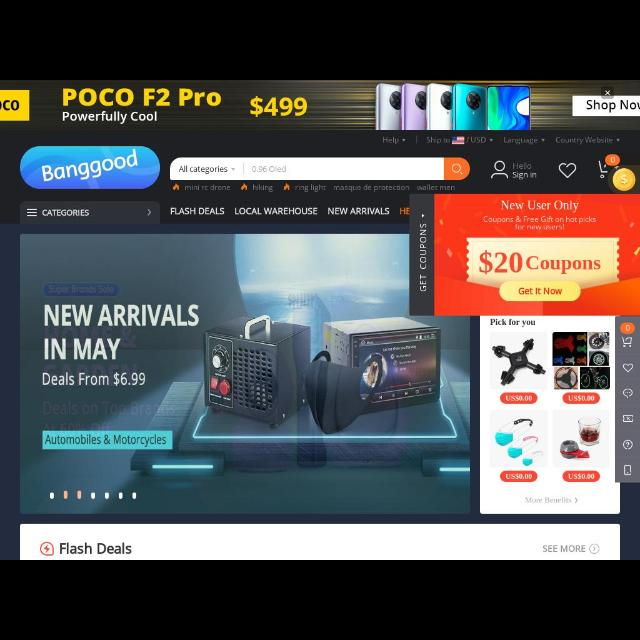button: (446, 158, 468, 180)
icon: (489, 160, 508, 182), (560, 162, 576, 178), (40, 542, 56, 558), (622, 337, 634, 348), (452, 163, 463, 174), (26, 208, 38, 218), (622, 362, 634, 372), (624, 414, 634, 424), (589, 544, 599, 554), (624, 464, 632, 476), (624, 388, 632, 399), (624, 440, 632, 450), (173, 183, 181, 191), (146, 208, 152, 218), (284, 183, 290, 193), (231, 166, 237, 174), (242, 183, 248, 190), (400, 137, 406, 143), (541, 136, 545, 144), (490, 138, 494, 142), (617, 138, 621, 142)
iframe: (1, 81, 639, 131), (410, 194, 640, 316)
image: (21, 233, 470, 514), (481, 318, 619, 514), (598, 158, 638, 194), (452, 136, 464, 144)
input: (242, 157, 470, 180)
multitab: (160, 203, 410, 220), (376, 134, 634, 150), (172, 183, 462, 194)
panel: (20, 524, 620, 560), (617, 317, 639, 481)
spinner: (170, 157, 242, 181), (554, 136, 624, 148), (502, 134, 546, 148), (378, 134, 412, 150)
text: (234, 206, 318, 218), (60, 542, 132, 556), (329, 206, 391, 218), (177, 162, 229, 175), (170, 206, 226, 218), (557, 135, 613, 145), (333, 185, 411, 192), (44, 208, 90, 218), (502, 134, 540, 146), (514, 162, 538, 180), (543, 543, 585, 553), (185, 185, 231, 192), (252, 166, 286, 174), (380, 134, 400, 146), (297, 184, 327, 192), (416, 184, 456, 190), (428, 136, 450, 144), (252, 184, 274, 192), (467, 136, 488, 144), (401, 206, 409, 214)
textbutton: (21, 148, 161, 188)
